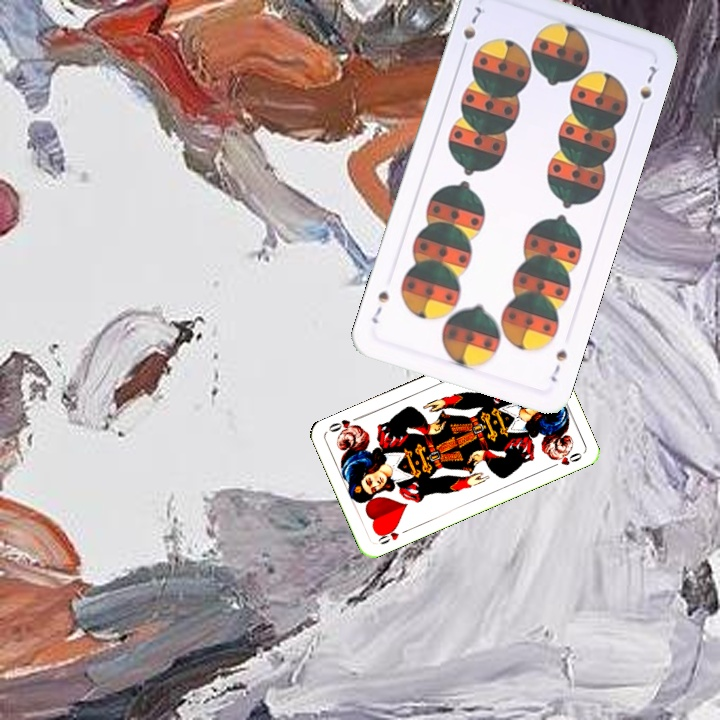HO: (374, 522, 411, 547)
S7: (457, 2, 484, 57), (546, 346, 570, 385)
